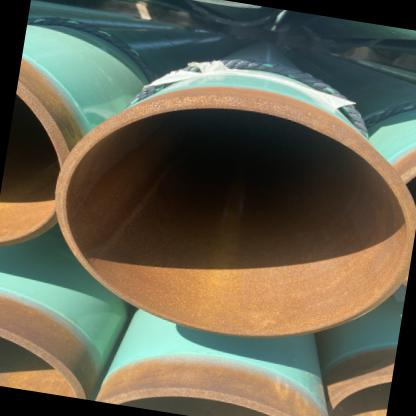clean: (235, 82, 313, 124)
